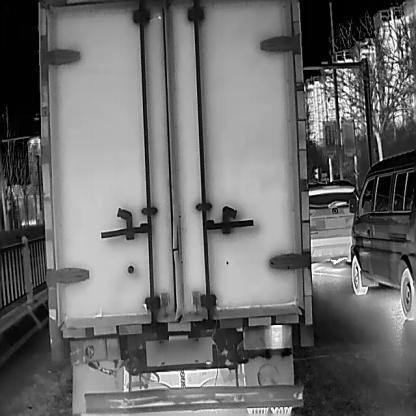car: (36, 0, 314, 415), (349, 150, 415, 322), (305, 182, 357, 266)
